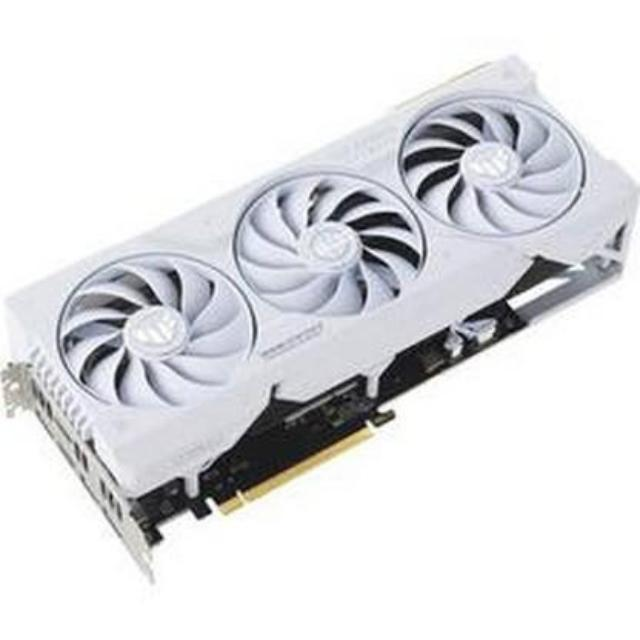GPU: (0, 43, 640, 565)
